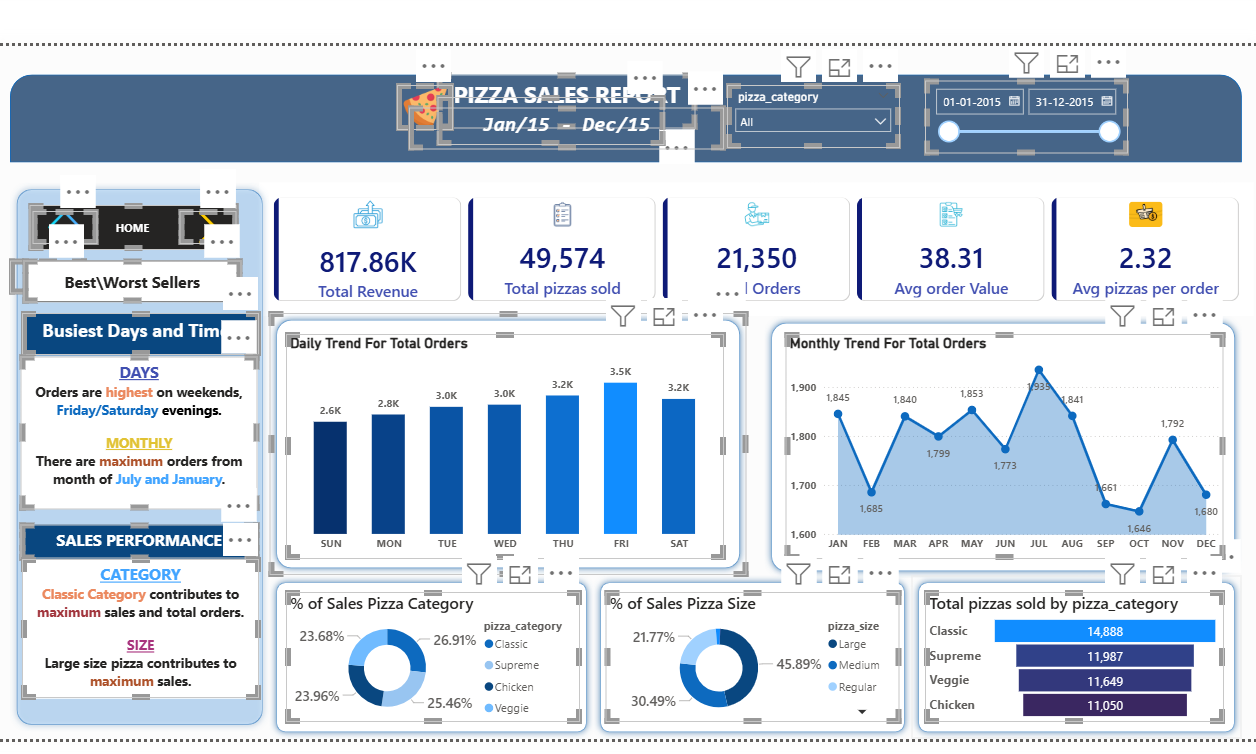

The page's visual inventory and layout, read from the dashboard file:
{"tool":"powerbi","page":{"name":"HOME","canvas":[1500,820],"ordinal":0},"visuals":[{"type":"cardVisual","fields":{"Data":["pizza_sales.Total Revenue","pizza_sales.Total pizzas sold","pizza_sales.Total Orders","pizza_sales.Avg order Value","pizza_sales.Avg pizzas per order"]},"box":[315.9,161.5,1176.5,157.9],"z":0},{"type":"shape","box":[22.1,33.2,1457.2,104.1],"z":1000},{"type":"textbox","box":[527.1,59.8,268,57.6],"z":2000},{"type":"textbox","box":[527.1,33.2,305.6,64.2],"z":3000},{"type":"textbox","box":[493.9,73.1,372.1,48.7],"z":4000},{"type":"image","box":[478.4,46.5,66.4,53.2],"z":5000},{"type":"shape","box":[327.8,316.7,564.7,310],"z":6000},{"type":"columnChart","title":"Daily Trend For Total Orders","fields":{"Category":["pizza_sales.Order Day"],"Y":["pizza_sales.Total Orders"]},"box":[347.8,340.7,518.1,266.2],"z":7000},{"type":"shape","box":[914.6,318.9,564.7,310],"z":8000},{"type":"areaChart","title":"Monthly Trend For Total Orders","fields":{"Y":["pizza_sales.Total Orders"],"Category":["pizza_sales.Order Month"]},"box":[938.7,340.7,518.1,266.2],"z":9000},{"type":"shape","box":[328.3,626.4,383.3,193.4],"z":10000},{"type":"shape","box":[711.6,626.4,376.2,193.4],"z":11000},{"type":"shape","box":[1087.7,626.4,390.4,193.4],"z":12000},{"type":"donutChart","title":"% of Sales Pizza Category","fields":{"Category":["pizza_sales.pizza_category"],"Y":["pizza_sales.Total Revenue"]},"box":[347.8,645.9,347.8,154.4],"z":13000},{"type":"donutChart","title":"% of Sales Pizza Size","fields":{"Y":["pizza_sales.Total Revenue"],"Category":["pizza_sales.pizza_size"]},"box":[725.8,645.9,347.8,154.4],"z":14000},{"type":"funnel","fields":{"Category":["pizza_sales.pizza_category"],"Y":["pizza_sales.Total pizzas sold"]},"box":[1103.7,645.9,353.1,154.4],"z":15000},{"type":"shape","box":[21.3,161.5,307,649.5],"z":16000},{"type":"textbox","box":[35.5,315.9,280.4,49.7],"z":17000},{"type":"textbox","box":[33.7,367.3,280.4,181],"z":18000},{"type":"textbox","box":[33.7,566.1,280.4,40.8],"z":19000},{"type":"textbox","box":[35.5,606.9,280.4,165],"z":20000},{"type":"slicer","fields":{"Values":["pizza_sales.pizza_category"]},"box":[869.5,46.1,204.1,74.5],"z":21000},{"type":"slicer","fields":{"Values":["pizza_sales.order_date"]},"box":[1103.7,40.8,239.6,86.9],"z":22000},{"type":"pageNavigator","box":[44.4,188.1,244.9,53.2],"z":23000},{"type":"image","box":[221.8,195.2,67.4,39],"z":24000},{"type":"pageNavigator","box":[37.3,253.7,257.3,49.7],"z":25000},{"type":"image","box":[47.9,195.2,76.3,39],"z":26000},{"type":"image","box":[21.3,253.7,88.7,39],"z":27000}]}

Visuals, with their boxes on the page's 1500x820 design canvas (x1, y1, x2, y2). These are canvas units, not pixel positions in the 1256x754 screenshot, which may show the page scaled, cropped or inside an application window:
cardVisual - pizza_sales.Total Revenue x pizza_sales.Total pizzas sold: select_region(316, 162, 1492, 319)
shape: select_region(22, 33, 1479, 137)
textbox: select_region(527, 60, 795, 117)
textbox: select_region(527, 33, 833, 97)
textbox: select_region(494, 73, 866, 122)
image: select_region(478, 46, 545, 100)
shape: select_region(328, 317, 892, 627)
"Daily Trend For Total Orders" columnChart: select_region(348, 341, 866, 607)
shape: select_region(915, 319, 1479, 629)
"Monthly Trend For Total Orders" areaChart: select_region(939, 341, 1457, 607)
shape: select_region(328, 626, 712, 820)
shape: select_region(712, 626, 1088, 820)
shape: select_region(1088, 626, 1478, 820)
"% of Sales Pizza Category" donutChart: select_region(348, 646, 696, 800)
"% of Sales Pizza Size" donutChart: select_region(726, 646, 1074, 800)
funnel - pizza_sales.pizza_category x pizza_sales.Total pizzas sold: select_region(1104, 646, 1457, 800)
shape: select_region(21, 162, 328, 811)
textbox: select_region(36, 316, 316, 366)
textbox: select_region(34, 367, 314, 548)
textbox: select_region(34, 566, 314, 607)
textbox: select_region(36, 607, 316, 772)
slicer - pizza_sales.pizza_category: select_region(870, 46, 1074, 121)
slicer - pizza_sales.order_date: select_region(1104, 41, 1343, 128)
pageNavigator: select_region(44, 188, 289, 241)
image: select_region(222, 195, 289, 234)
pageNavigator: select_region(37, 254, 295, 303)
image: select_region(48, 195, 124, 234)
image: select_region(21, 254, 110, 293)
